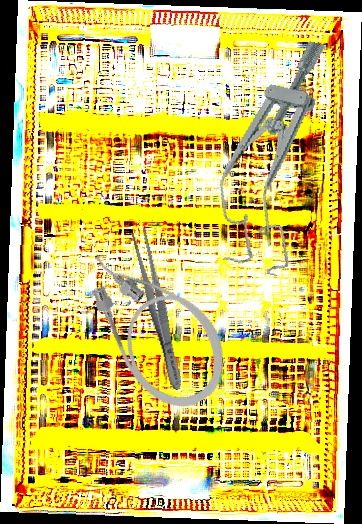Cannula: (68, 223, 245, 425)
Dressing Forceps: (128, 229, 188, 392)
Speculum: (201, 28, 343, 279)
